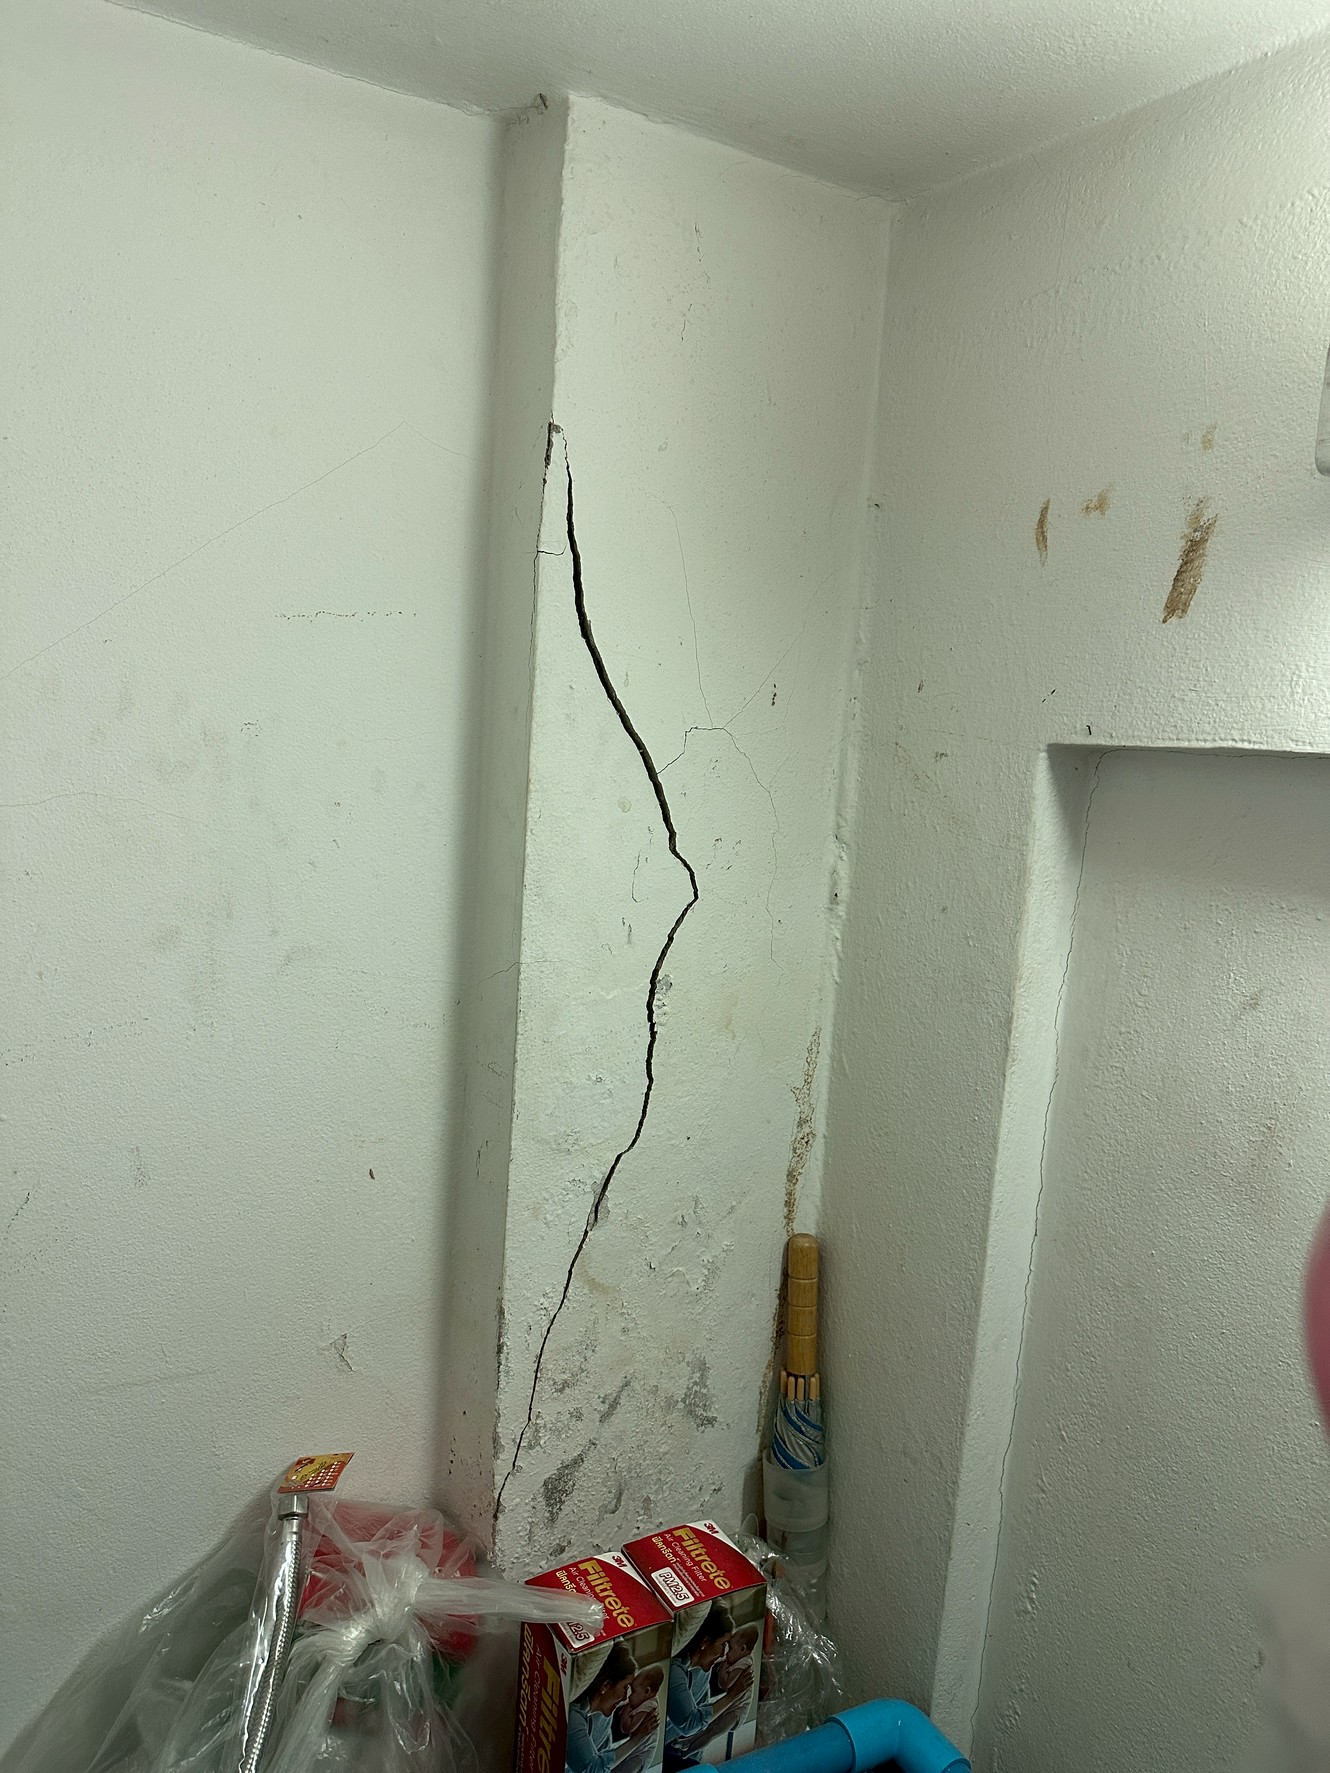High: (472, 400, 726, 1552)
